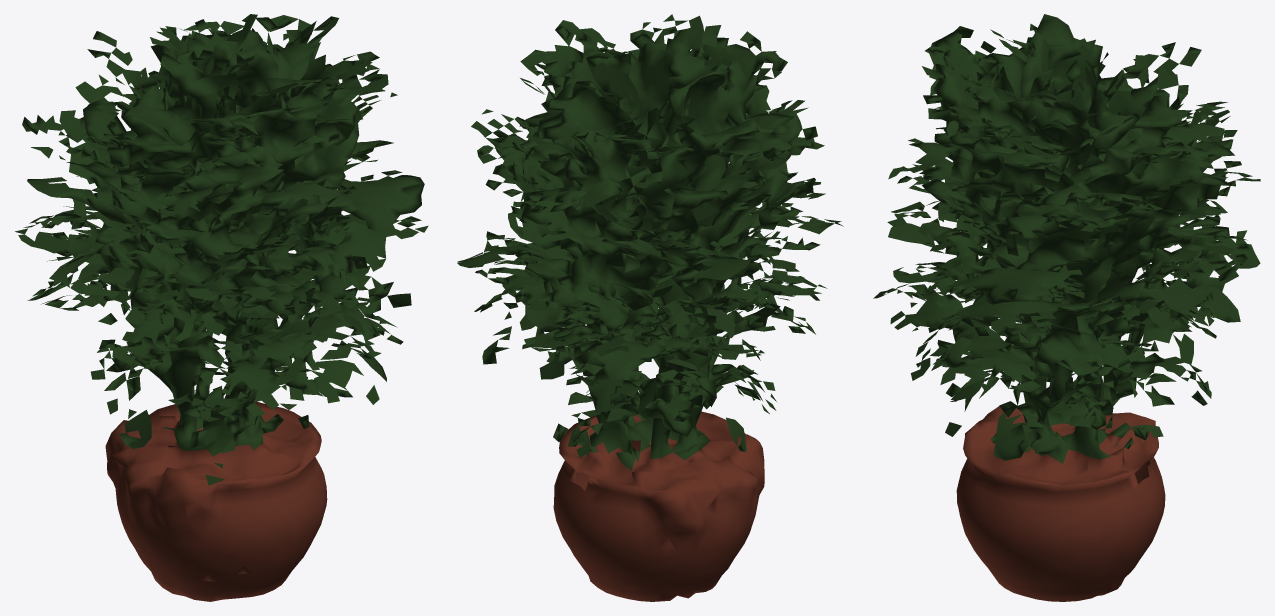
File: plante_2.glb
3 views of the same model, side by side, from view 1: azimuth 30°, elevation 25°; view 2: azimuth 150°, elevation 25°; view 3: azimuth 270°, elevation 25° (orthographic). The views are drawn at different scales.
Visible parts, largest first — view 1: Mesh1; view 2: Mesh1; view 3: Mesh1.
Part boxes in pixels (bbox=[...]): Mesh1: bbox=[15, 14, 428, 601]; Mesh1: bbox=[457, 14, 843, 601]; Mesh1: bbox=[873, 14, 1260, 601].
Bounding box in the file's own units: 1.65 × 2.45 × 1.6.
